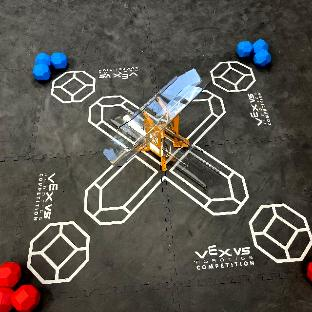Med_goal: (103, 68, 202, 166)
V5_BLUE: (238, 39, 271, 66), (33, 53, 66, 79)
V5_RED: (0, 263, 39, 312), (308, 263, 312, 277)
